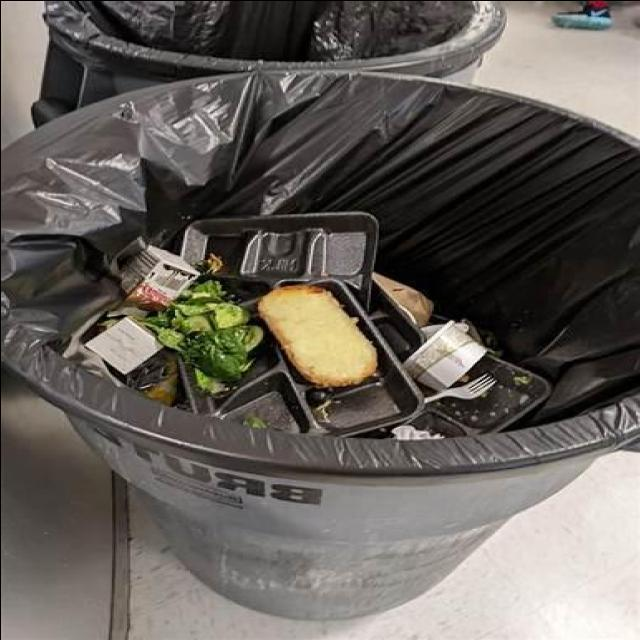Disposable: (169, 281, 422, 435), (181, 212, 377, 304), (392, 355, 550, 439), (369, 273, 424, 359)
Garbage: (0, 75, 640, 441)
Tetrapack: (114, 236, 199, 307)
